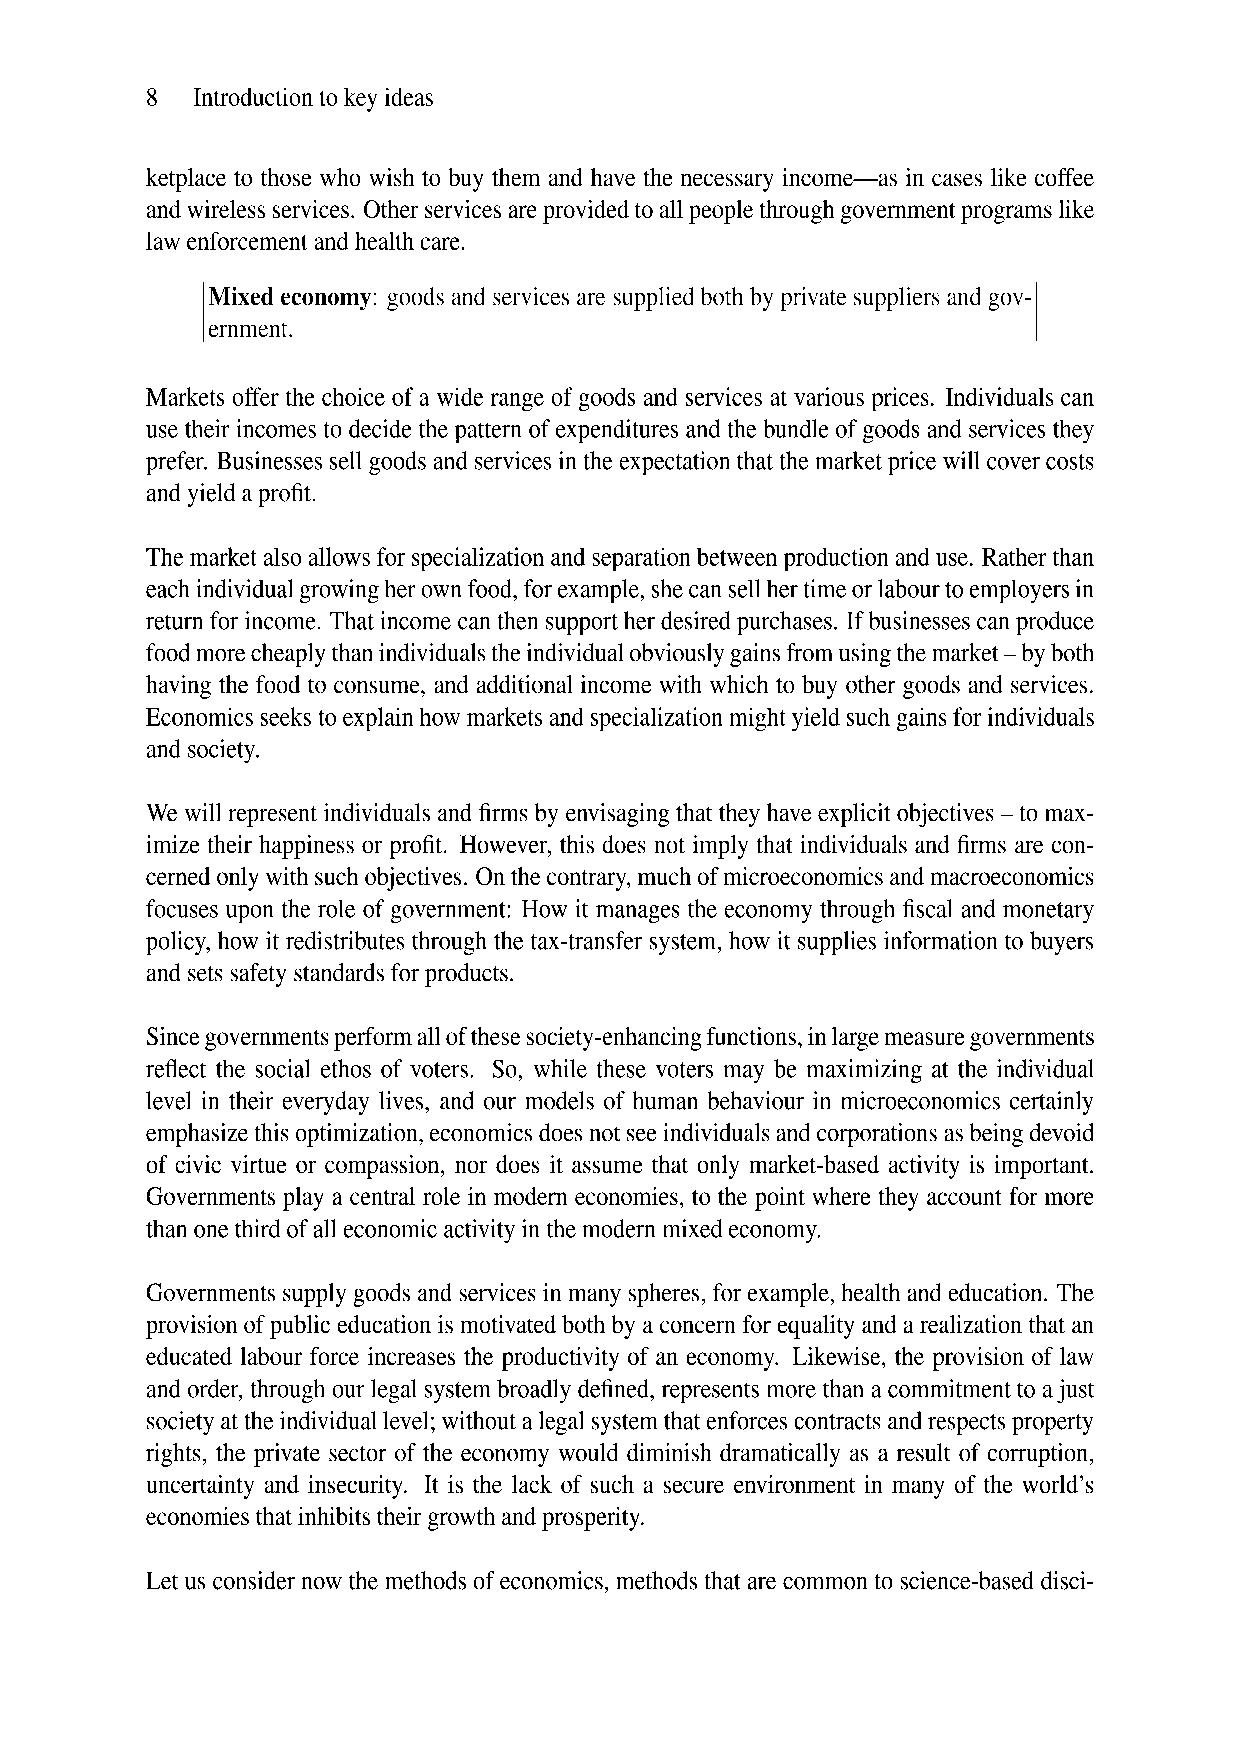content: (141, 160, 1100, 1596)
content_chapter: (187, 85, 433, 114)
content_pagenumber: (141, 76, 162, 110)
